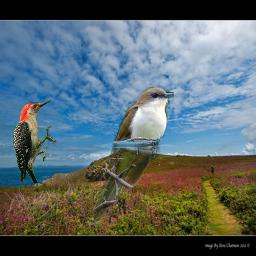Cuckoo: (87, 85, 174, 225)
Woodpecker: (13, 100, 57, 183)
